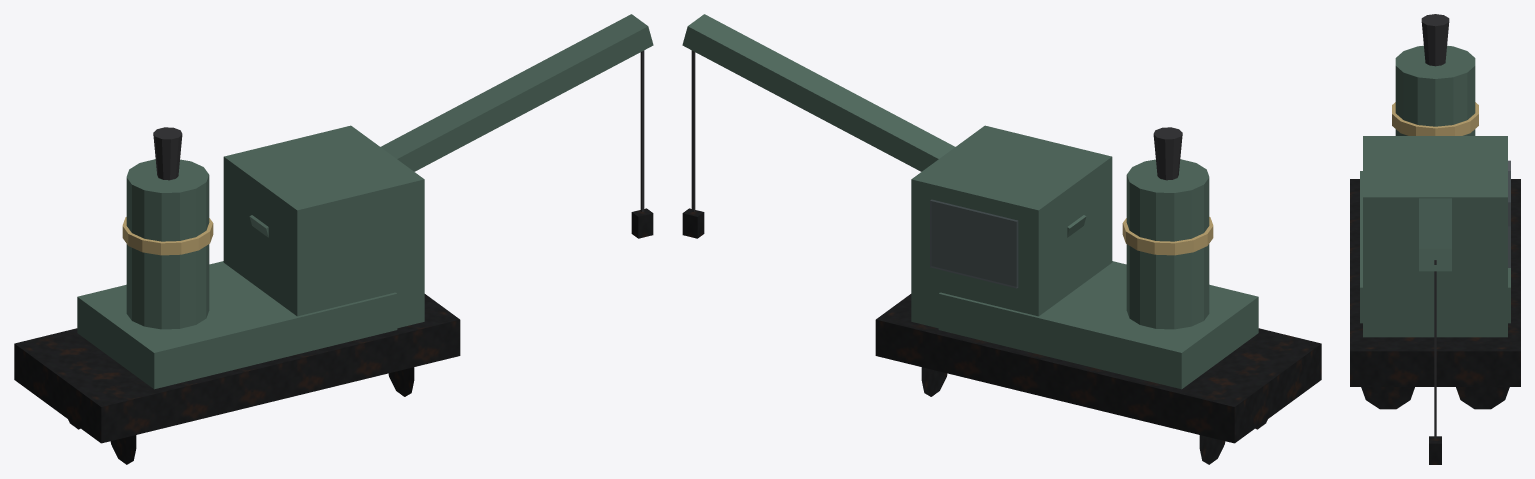
Rendered from A_steamcrane.glb.
The picture shows the model from 3 angles, left to right: view 1: azimuth 30°, elevation 25°; view 2: azimuth 150°, elevation 25°; view 3: azimuth 270°, elevation 25°; orthographic projection.
Visible parts, largest first — view 1: A_steamcrane; view 2: A_steamcrane; view 3: A_steamcrane.
Boxes of the visible parts, x1,y1,x2,y2 form: A_steamcrane: (14, 14, 653, 464); A_steamcrane: (682, 14, 1321, 464); A_steamcrane: (1350, 14, 1520, 464).
Size of the model in its own units: 10.23 by 4.85 by 2.6.
5 materials, 1 textured.
